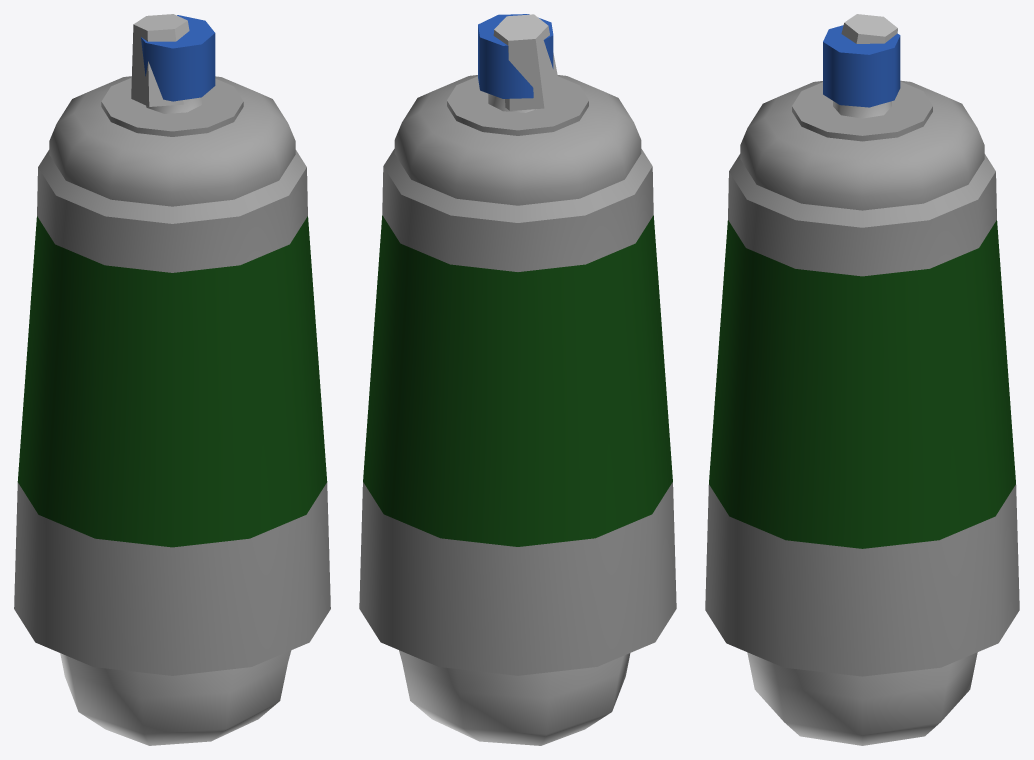
3 views of the same model, side by side, from view 1: azimuth 30°, elevation 25°; view 2: azimuth 150°, elevation 25°; view 3: azimuth 270°, elevation 25° (orthographic).
Visible parts, largest first — view 1: spraypaint, bottle; view 2: spraypaint, bottle; view 3: spraypaint, bottle.
Boxes of the visible parts, x1,y1,x2,y2 form: spraypaint: (14, 14, 330, 675); bottle: (60, 15, 291, 745); spraypaint: (359, 14, 676, 675); bottle: (399, 14, 630, 745); spraypaint: (705, 14, 1019, 676); bottle: (747, 25, 977, 745).
Bounding box in the file's own units: 0.1397 × 0.3406 × 0.1397.
